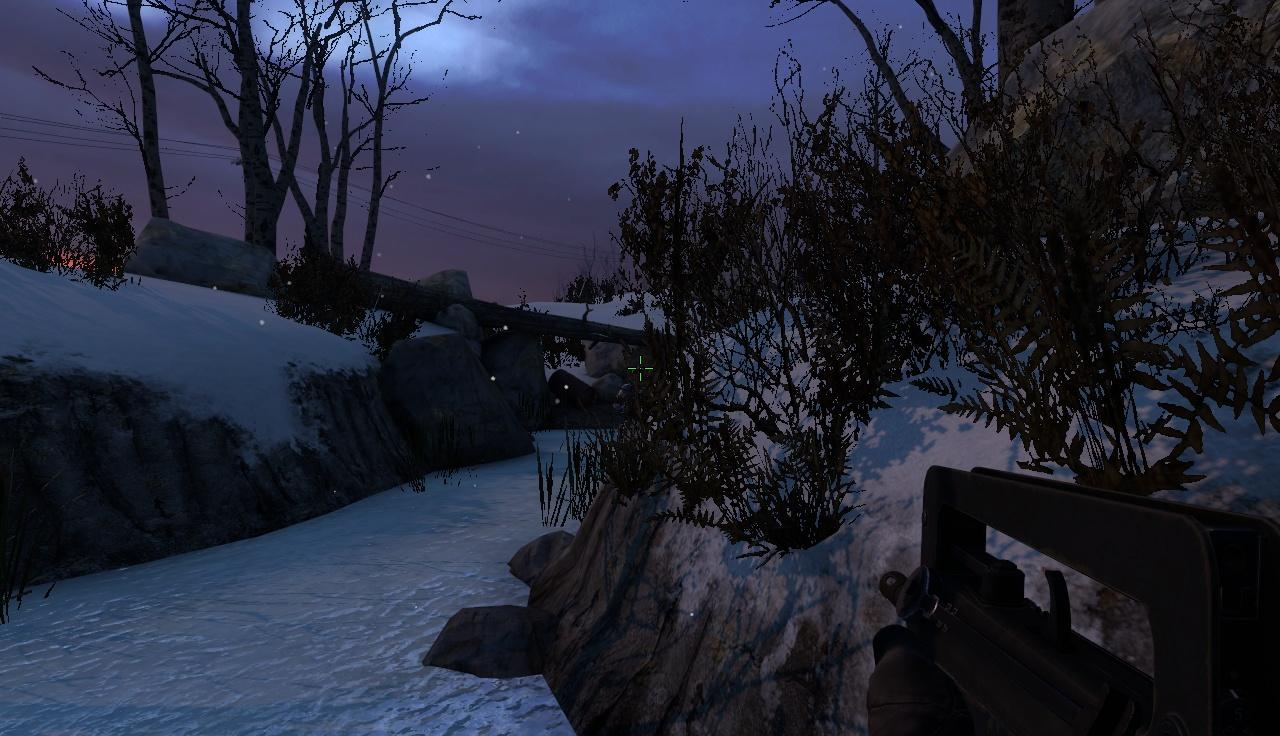rifle: (886, 461, 1280, 736)
